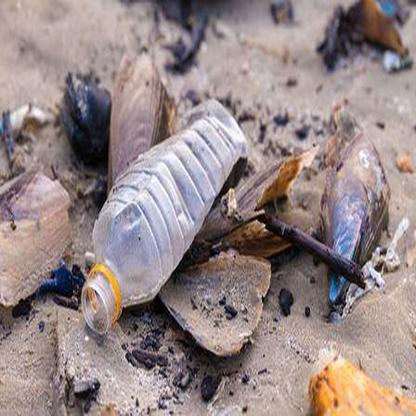plastic bottle: (79, 99, 247, 332)
